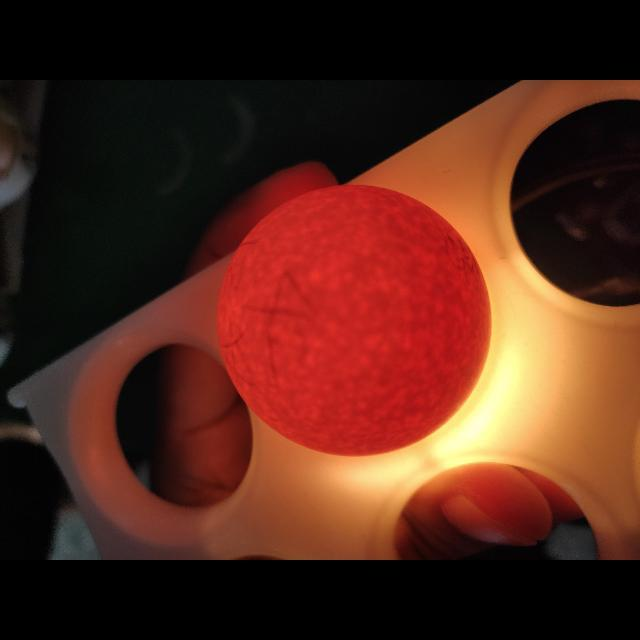A - Good: (212, 174, 494, 463)
